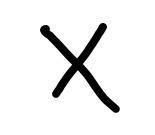plus: (38, 20, 120, 113)
